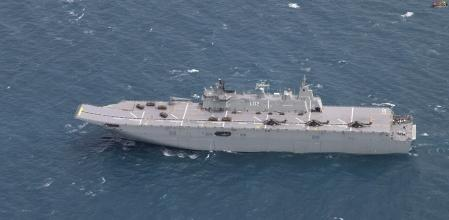warship: (63, 81, 447, 152)
